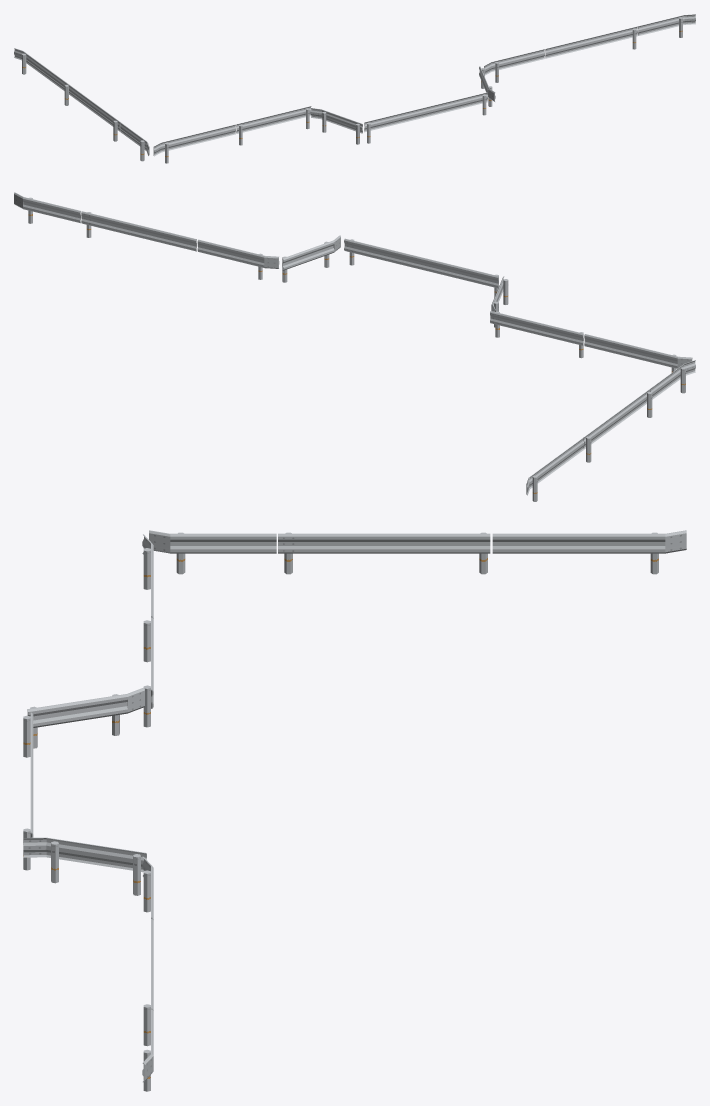
Rendered from kd_stage_135b75_1_11.glb.
3 renders of one model, top to bottom at view 1: azimuth 30°, elevation 25°; view 2: azimuth 150°, elevation 25°; view 3: azimuth 270°, elevation 25°, orthographic. The views are drawn at different scales.
Parts seen in each view (by area): view 1: kd_stage_135b75_1_11; view 2: kd_stage_135b75_1_11; view 3: kd_stage_135b75_1_11.
Part boxes in pixels (box(x1,y1,x2,y2)): kd_stage_135b75_1_11: box(14, 14, 695, 163); kd_stage_135b75_1_11: box(14, 192, 695, 501); kd_stage_135b75_1_11: box(23, 530, 686, 1091).
Bounding box in the file's own units: 29.68 × 1.05 × 15.61.
1 material, 1 textured.
